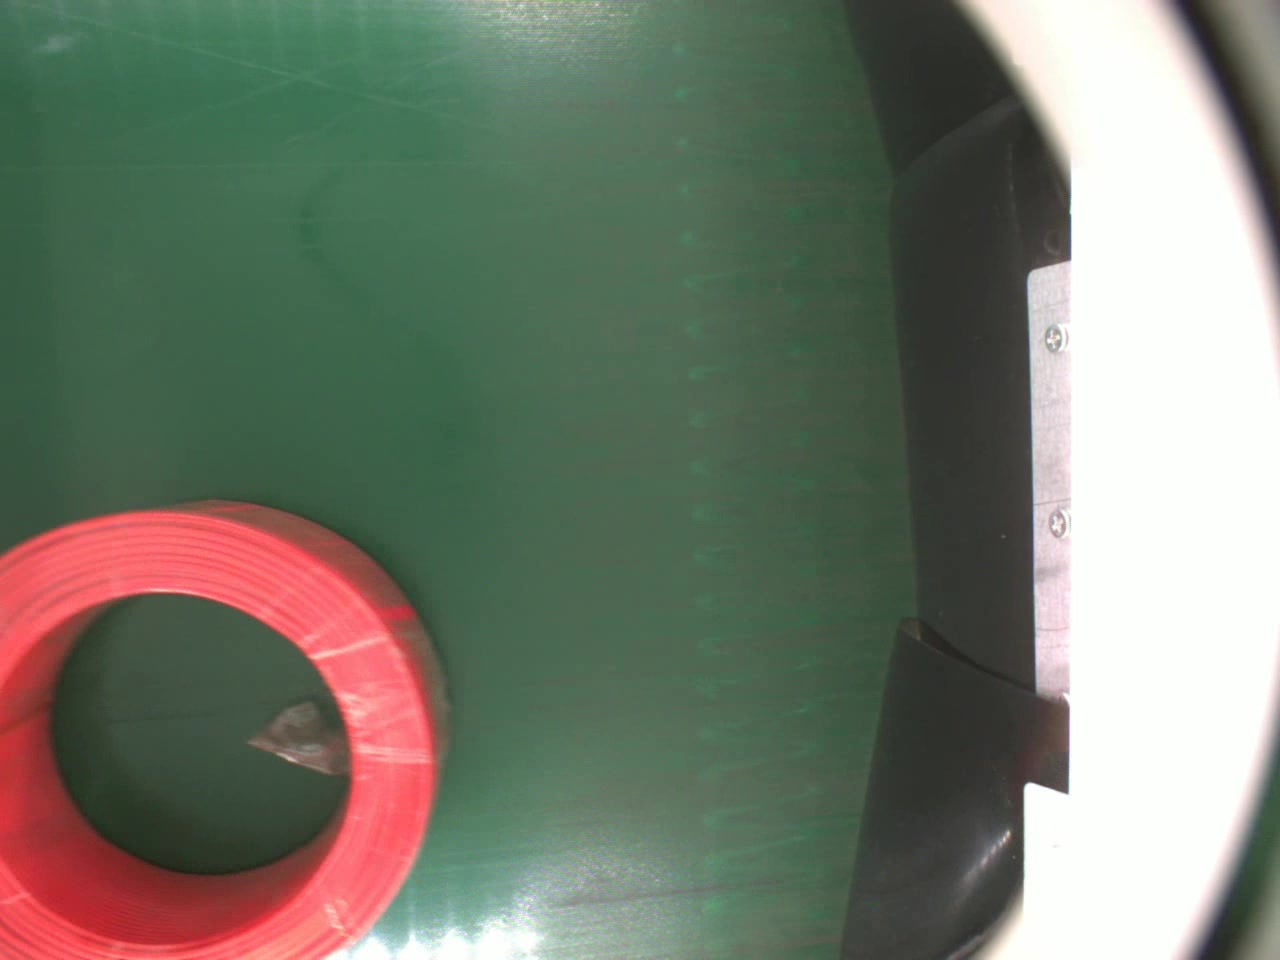red: (0, 496, 449, 960)
